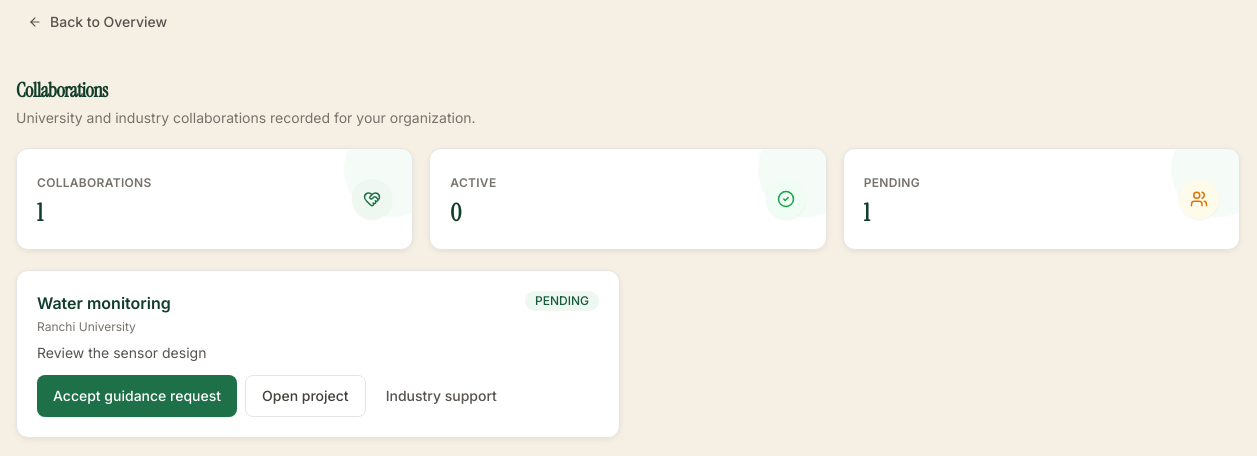
Test: Industry Collaborations › accepts an unassigned guidance request and reflects its new status
Expected: the text "Ranchi University" is shown, [37,319,136,334]
Click the button "Accept guidance request" at [137, 396], box [37,375,237,417]
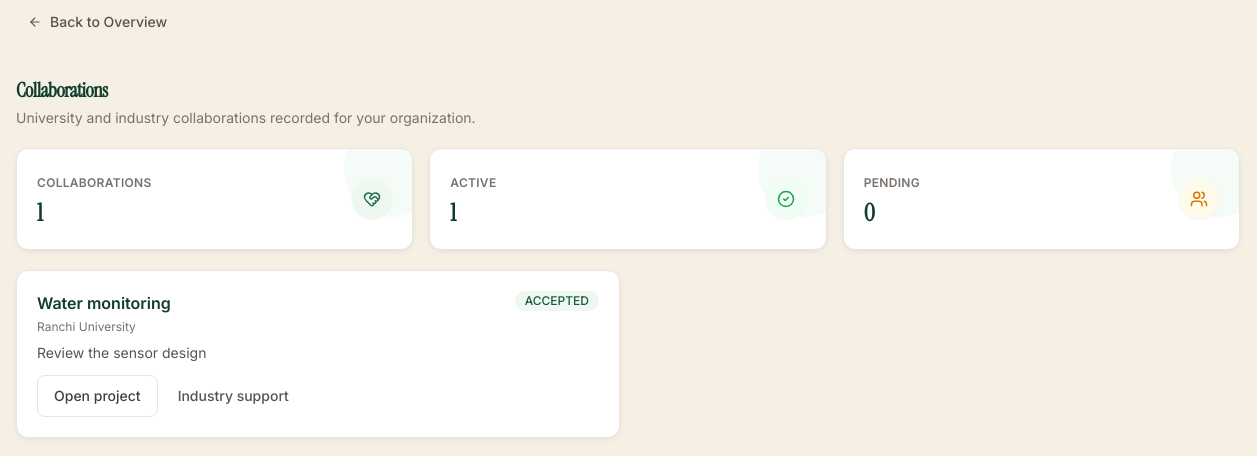
Expected: the text "ACCEPTED" is shown, [515,291,599,311]
